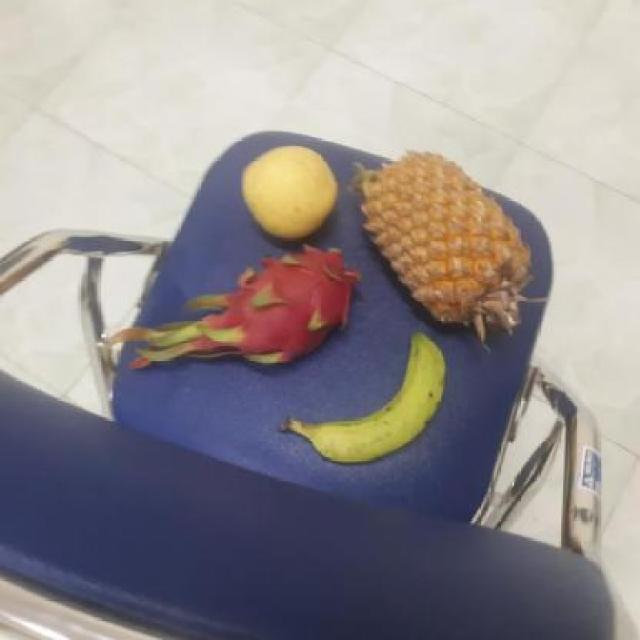banana: (278, 333, 444, 464)
dragon fruit: (213, 246, 356, 366)
pear: (238, 144, 341, 241)
pineapple: (339, 145, 530, 340)
